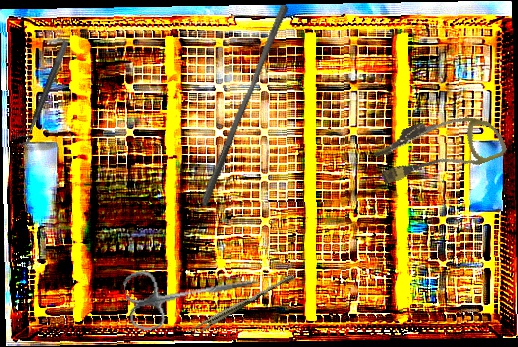Cannula: (369, 97, 509, 199)
Fixation Ring: (11, 36, 70, 149)
Iris Scissors: (121, 249, 265, 334)
Pusher: (199, 0, 290, 211)
Tissue Forceps: (186, 270, 296, 340)
